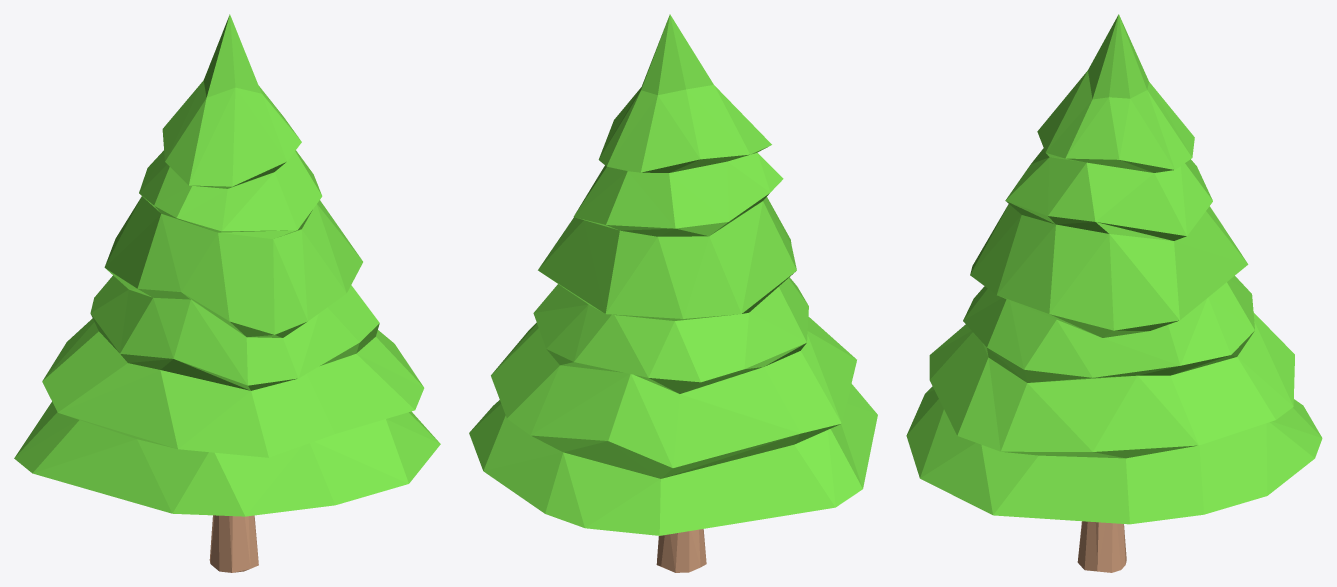
File: tree.gltf
The picture shows the model from 3 angles, left to right: view 1: azimuth 30°, elevation 25°; view 2: azimuth 150°, elevation 25°; view 3: azimuth 270°, elevation 25°; orthographic projection. The views are drawn at different scales.
Visible parts, largest first — view 1: leaves, trunk; view 2: leaves, trunk; view 3: leaves, trunk.
Part boxes in pixels (x1,y1,x2,y2): leaves: [14, 14, 440, 516]; trunk: [209, 515, 258, 572]; leaves: [469, 14, 877, 535]; trunk: [656, 529, 706, 572]; leaves: [906, 14, 1322, 524]; trunk: [1077, 521, 1126, 572].
Bounding box in the file's own units: 6.24 × 8.98 × 6.13.
